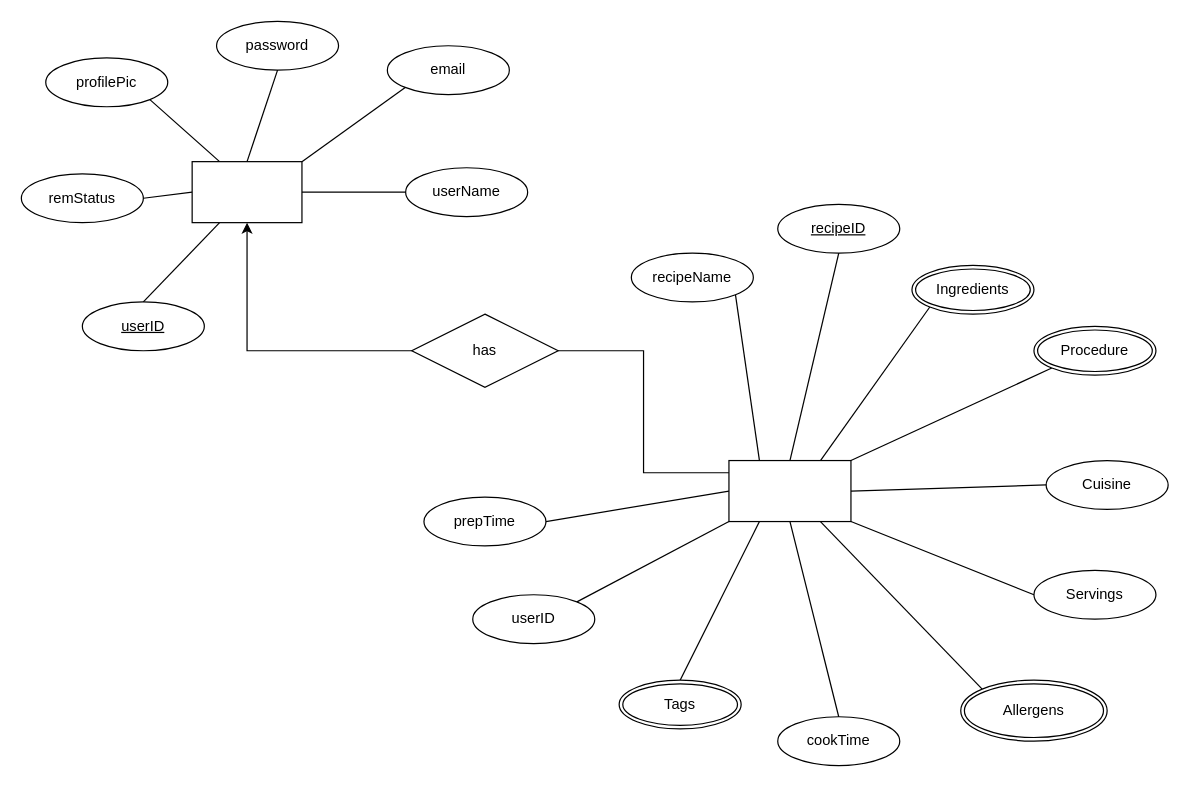
The diagram is 1190 pixels wide and 787 high, and some of its shapes have lost their labels. Each missing label, with the box of its shape:
Recipe: (728, 459, 851, 522)
User: (191, 160, 302, 223)
